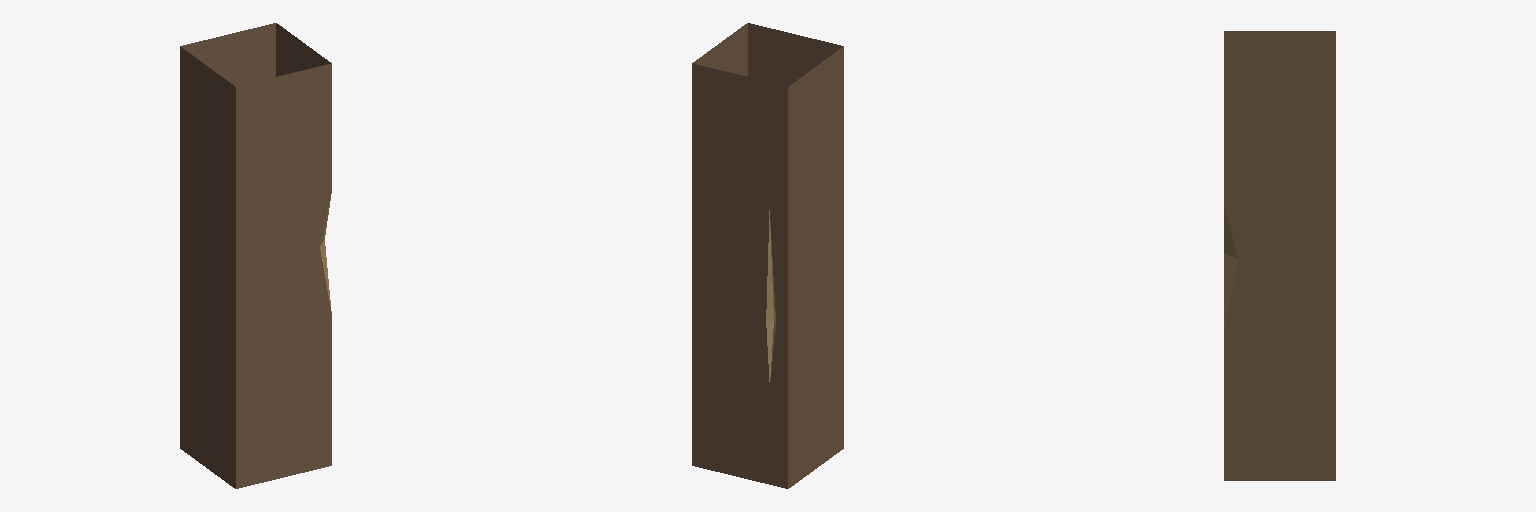
File: Cave_Prop_Support_Wall_Pillar_1.obj
3 renders of one model, left to right at view 1: azimuth 30°, elevation 25°; view 2: azimuth 150°, elevation 25°; view 3: azimuth 270°, elevation 25°, orthographic.
Visible parts, largest first — view 1: object1; view 2: object1; view 3: object1.
Boxes of the visible parts, box(x1,y1,x2,y2) form: object1: box(180, 23, 331, 488); object1: box(692, 23, 843, 488); object1: box(1224, 31, 1335, 480).
Size of the model in its own units: 0.25 by 1 by 0.25.